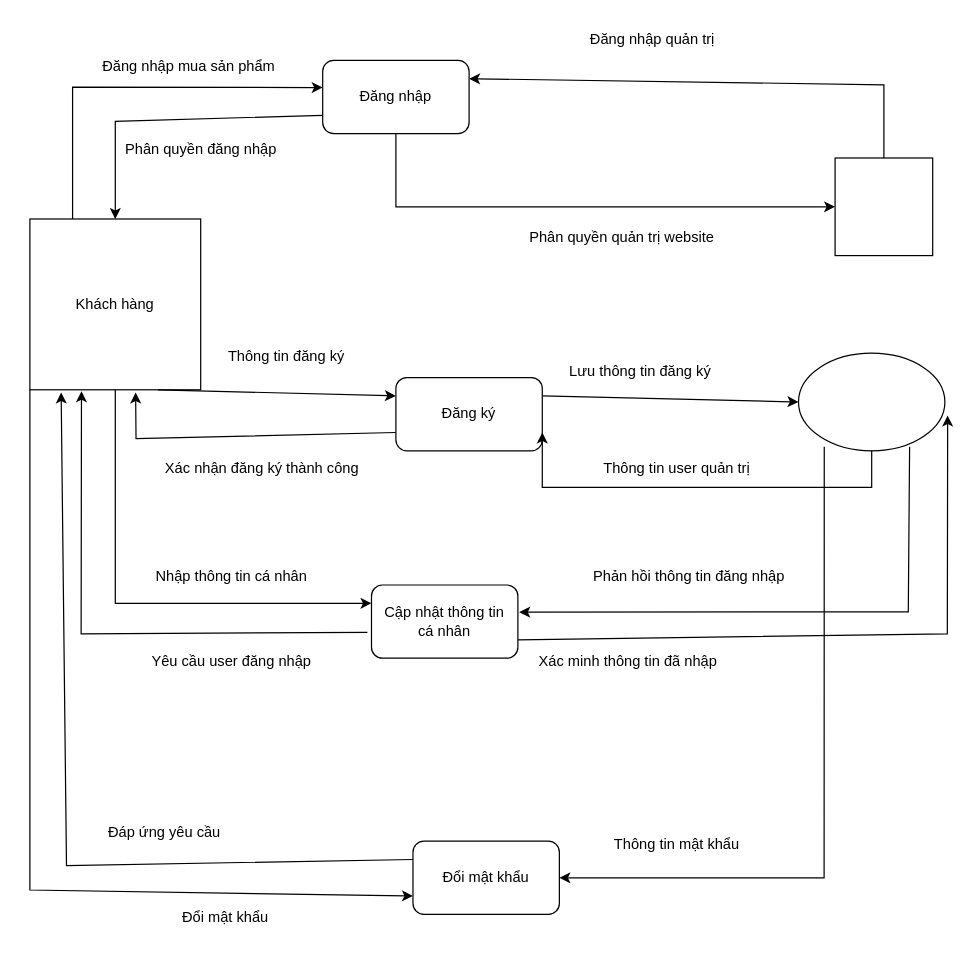
This 980x956 diagram has some shape labels left out. The shapes that lost their labels are listed below. From the top down, each one's box as (x1, y1, x2, y2) in pixels, then its label:
(834, 157, 933, 256): Nhà quản trị
(797, 352, 945, 451): Tài khoản
